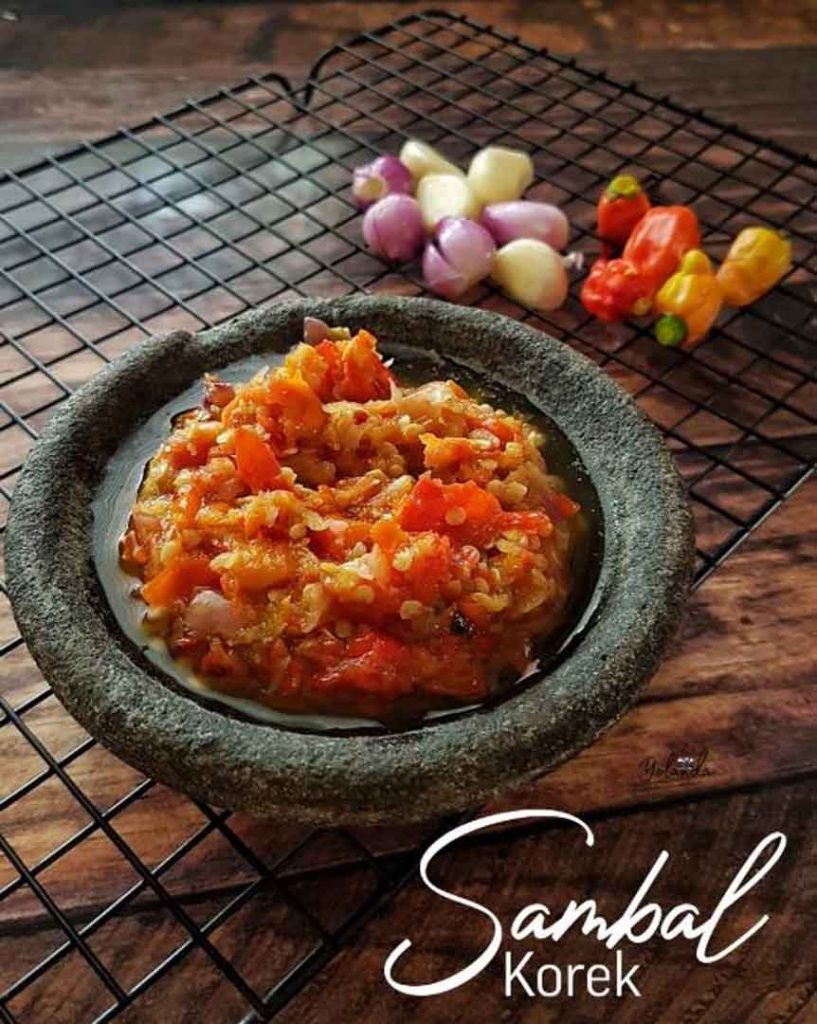sambal: (115, 329, 586, 706)
